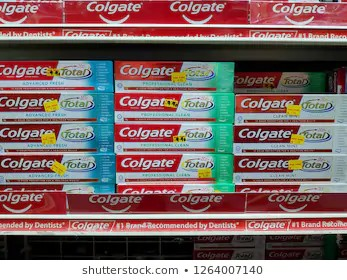colgate-medium: (115, 91, 238, 123), (1, 152, 117, 185), (112, 61, 235, 92), (234, 123, 347, 156), (1, 123, 117, 155), (235, 93, 347, 126), (114, 122, 236, 152), (1, 92, 118, 123), (1, 61, 110, 94), (116, 155, 234, 185), (235, 155, 347, 184)
